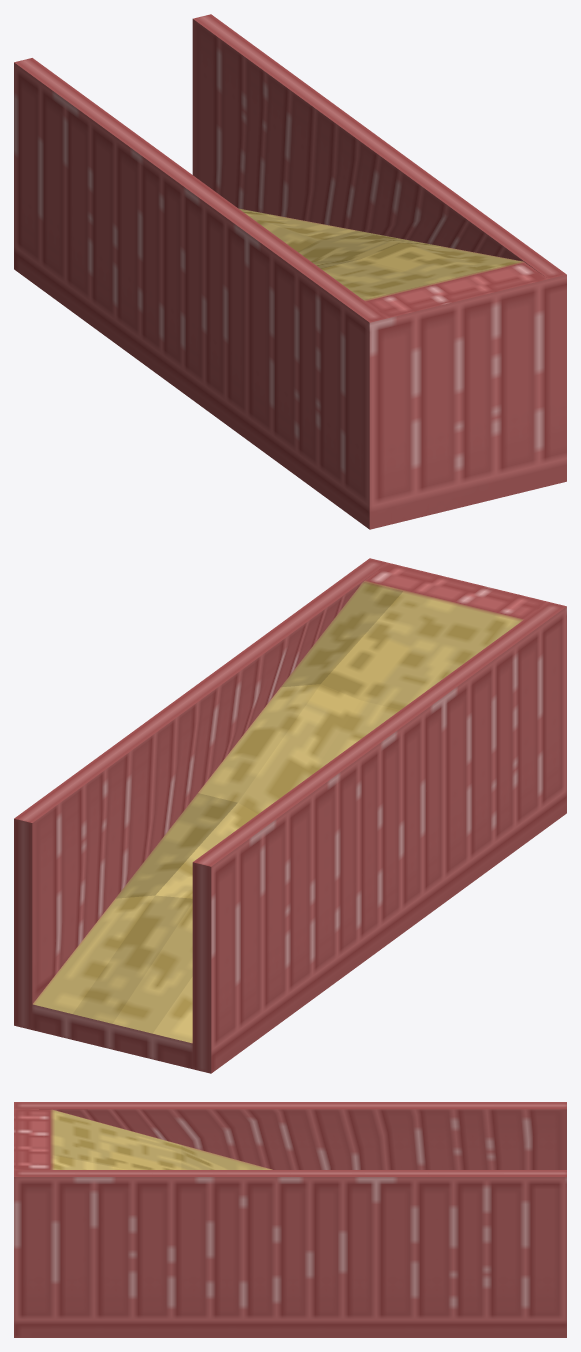
File: ToaLen.fbx
The picture shows the model from 3 angles, top to bottom: view 1: azimuth 30°, elevation 25°; view 2: azimuth 150°, elevation 25°; view 3: azimuth 270°, elevation 25°; orthographic projection. The views are drawn at different scales.
Parts seen in each view (by area): view 1: ToaLen; view 2: ToaLen; view 3: ToaLen.
Part boxes in pixels (x1,y1,x2,y2): ToaLen: [14, 14, 566, 529]; ToaLen: [14, 558, 566, 1073]; ToaLen: [14, 1102, 566, 1337].
Size of the model in its own units: 200 by 201 by 625.
Materials: 1 (1 with a texture image).
